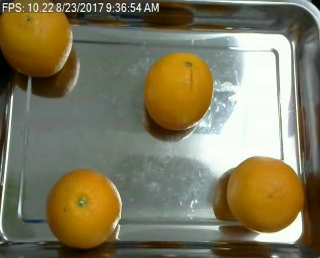Orange: (47, 169, 124, 249), (226, 156, 305, 233), (144, 51, 214, 129), (1, 13, 75, 76)
